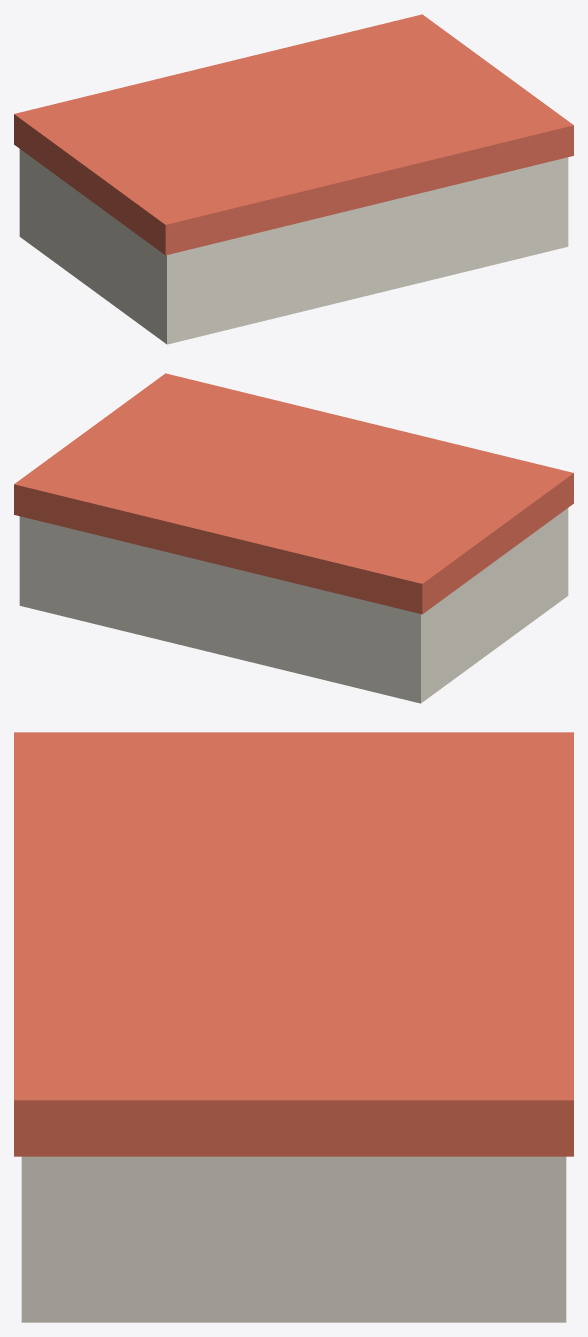
The model's file is fosforos.glb.
3 renders of one model, top to bottom at view 1: azimuth 30°, elevation 25°; view 2: azimuth 150°, elevation 25°; view 3: azimuth 270°, elevation 25°, orthographic. The views are drawn at different scales.
Parts seen in each view (by area): view 1: fosforos; view 2: fosforos; view 3: fosforos.
Part boxes in pixels (bbox=[...]): fosforos: bbox=[14, 14, 573, 344]; fosforos: bbox=[14, 373, 573, 703]; fosforos: bbox=[14, 732, 573, 1322].
Bounding box in the file's own units: 0.056 × 0.016 × 0.036.
